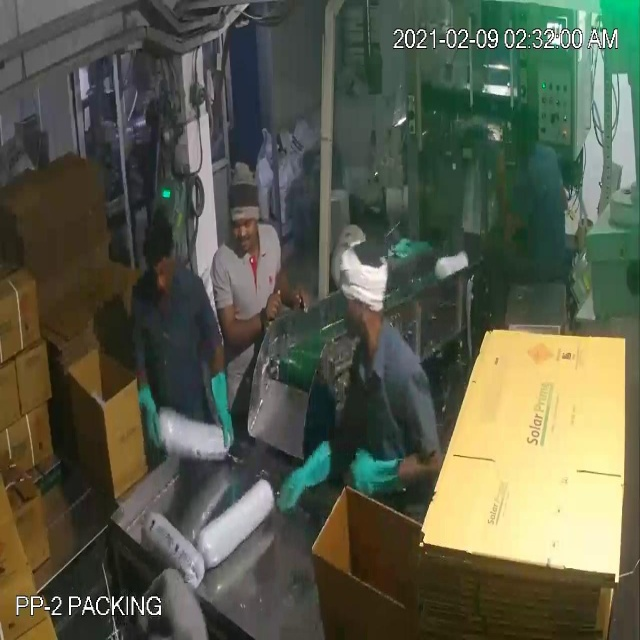Guantes: (268, 421, 336, 523), (339, 438, 414, 513), (199, 361, 234, 454), (137, 374, 170, 452)
Sin_guantes: (220, 280, 289, 355), (265, 257, 312, 324), (486, 199, 530, 253)
